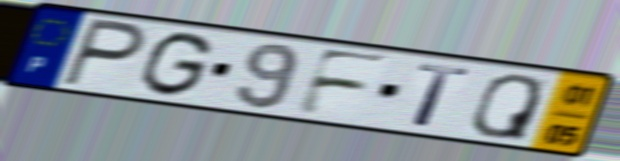9: (231, 40, 303, 111)
F: (290, 45, 394, 118)
G: (137, 30, 217, 100)
P: (58, 15, 151, 90)
Q: (468, 72, 545, 144)
T: (410, 61, 475, 130)
